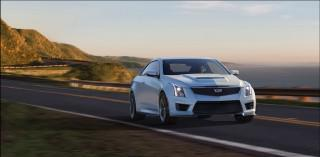cadillac: (212, 86, 224, 96)
